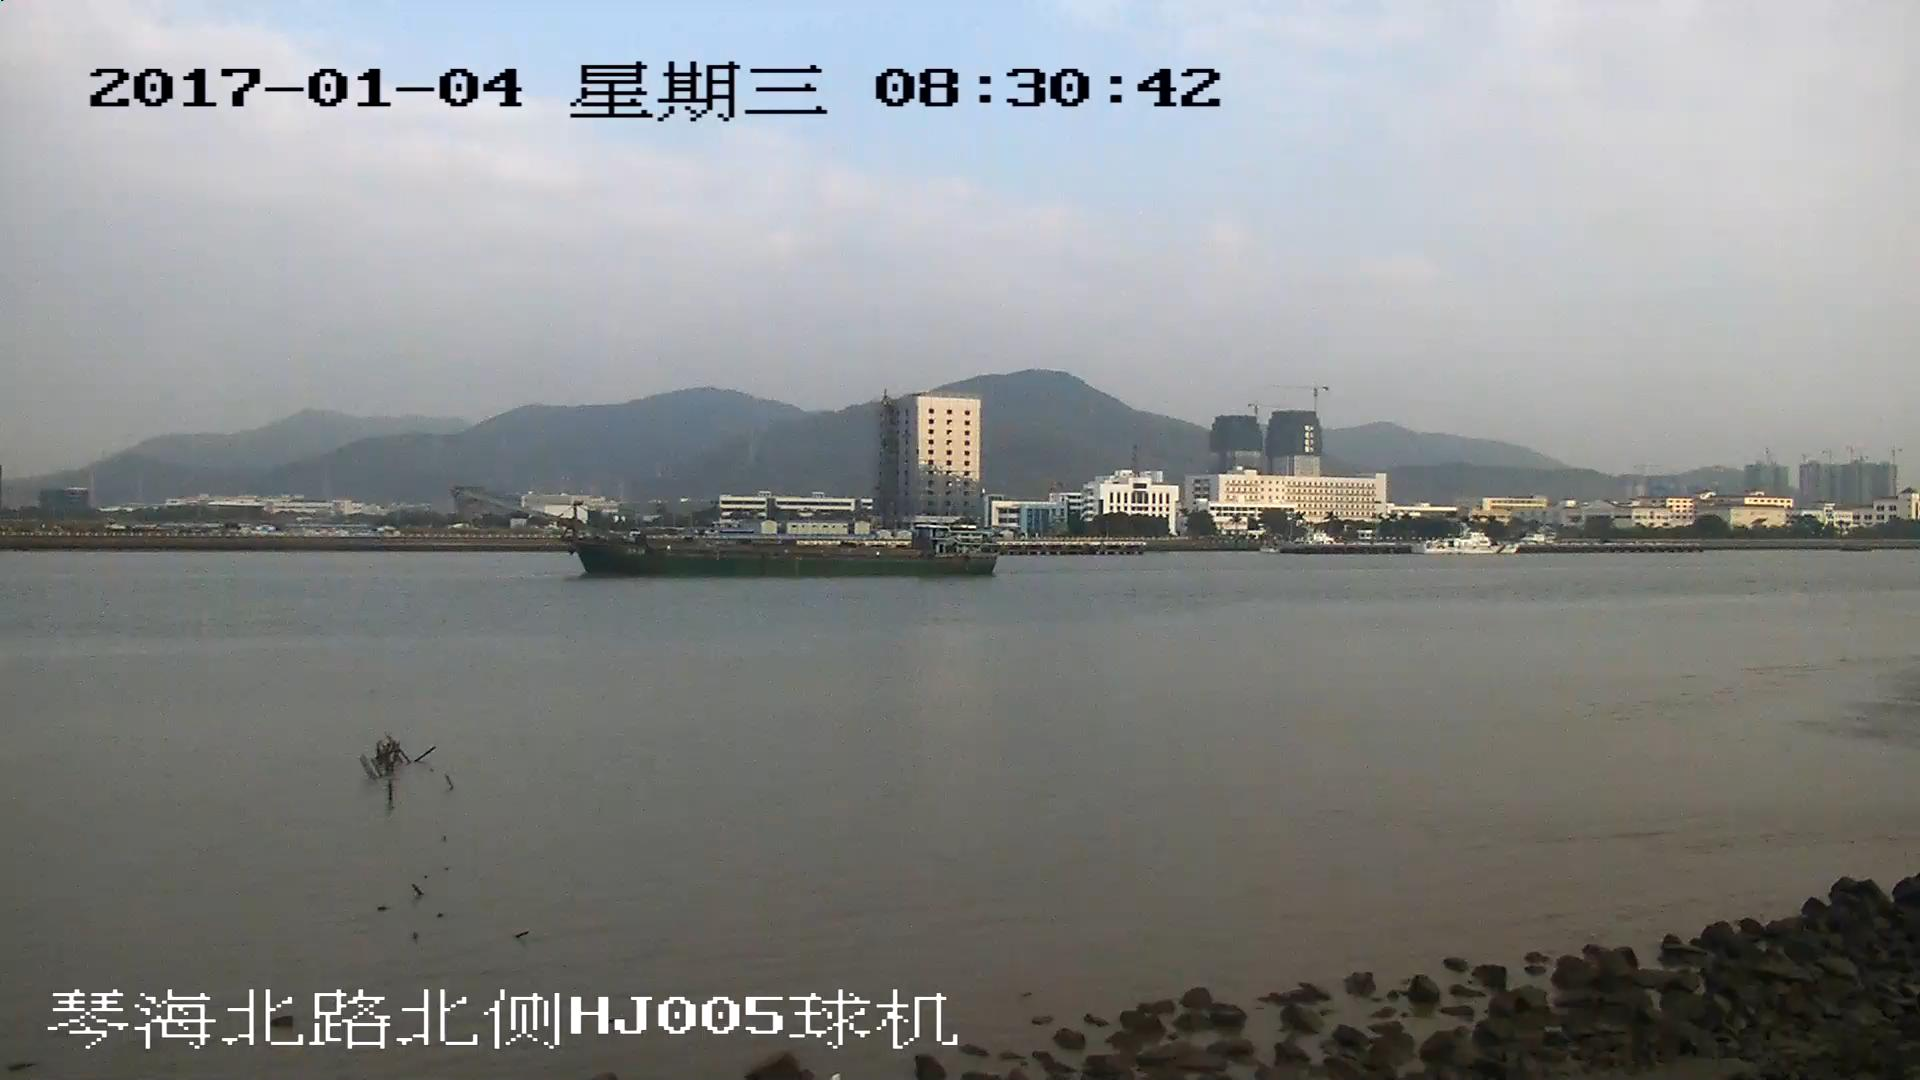bulk cargo carrier: (464, 490, 996, 577)
